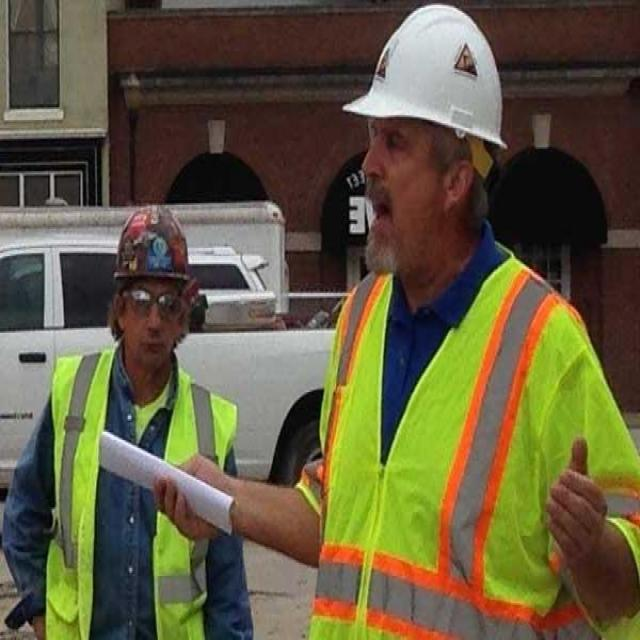Reflective-Jacket: (298, 264, 636, 626), (40, 345, 241, 640)
Safety-Helmet: (340, 0, 509, 163), (103, 195, 210, 306)
